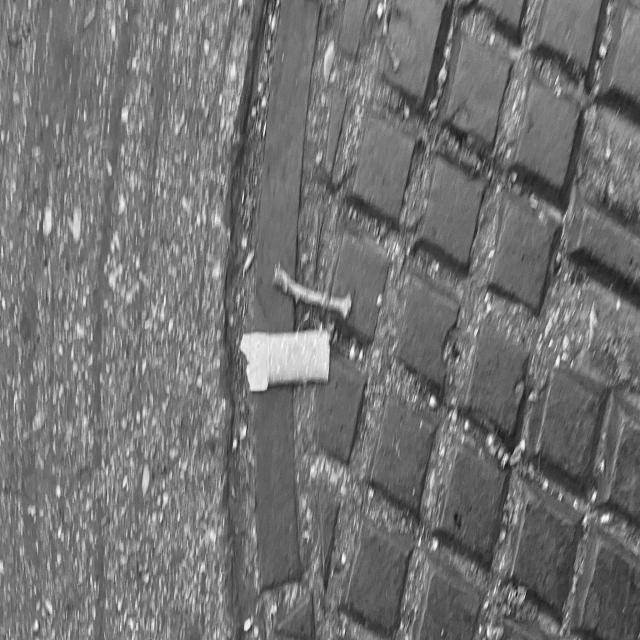other waste: (239, 328, 331, 393)
